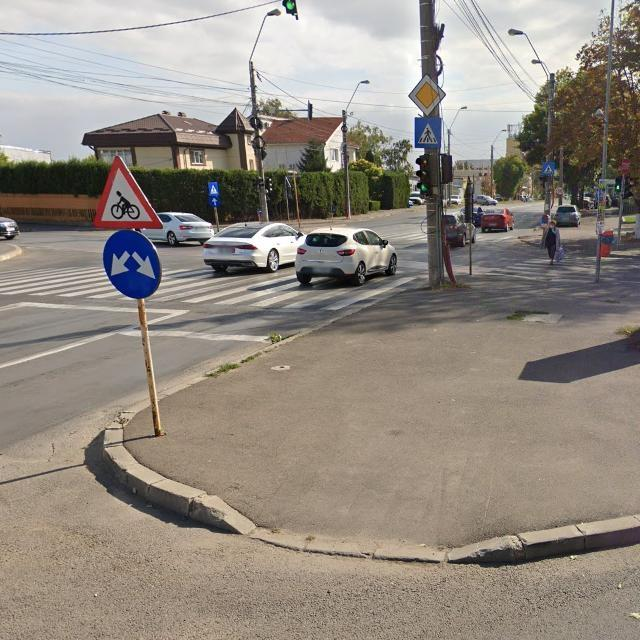info_crosswalk: (415, 117, 441, 148), (538, 159, 550, 172), (208, 182, 219, 196)
